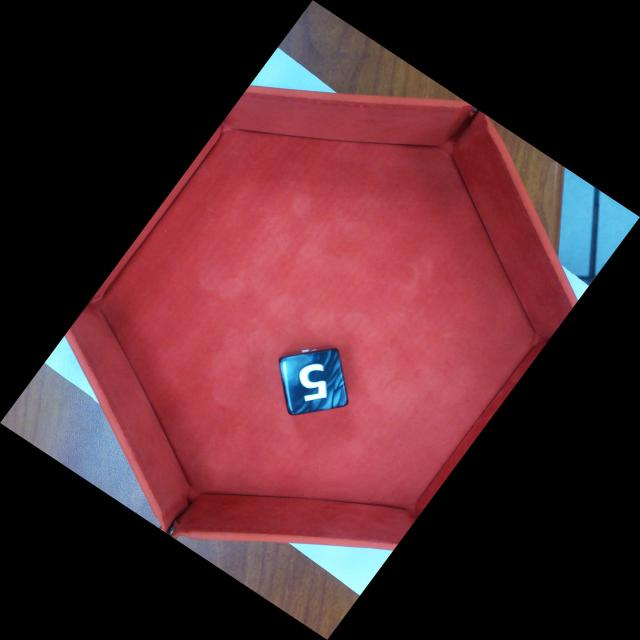dice: (278, 348, 349, 416)
